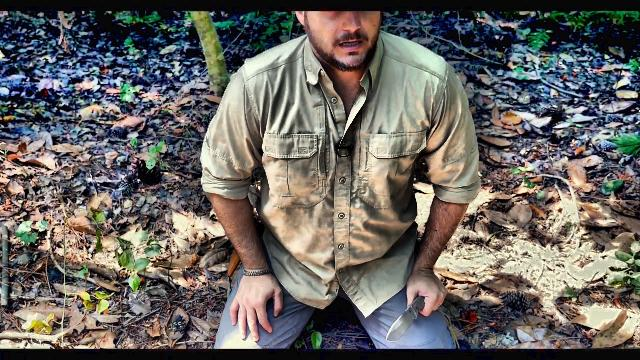knife: (381, 278, 449, 346)
